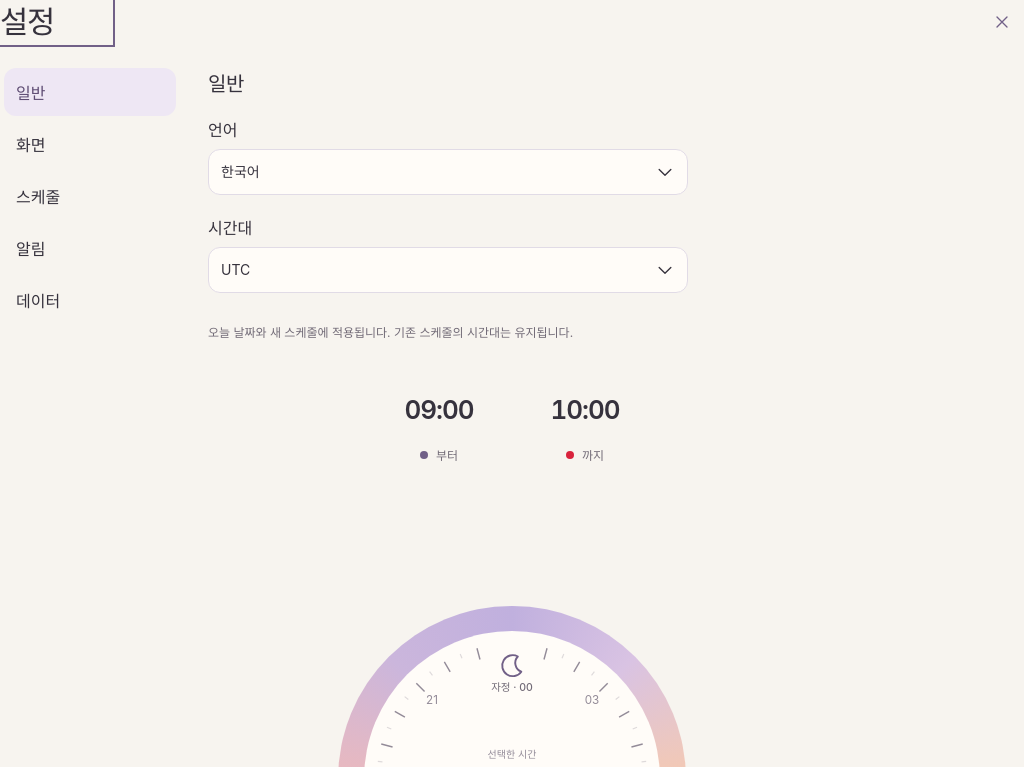
Test case: requires explicit reset text and preserves the confirmation after failure
Step 1. Click the tab "데이터" → (90, 300), box [4,276,176,324]
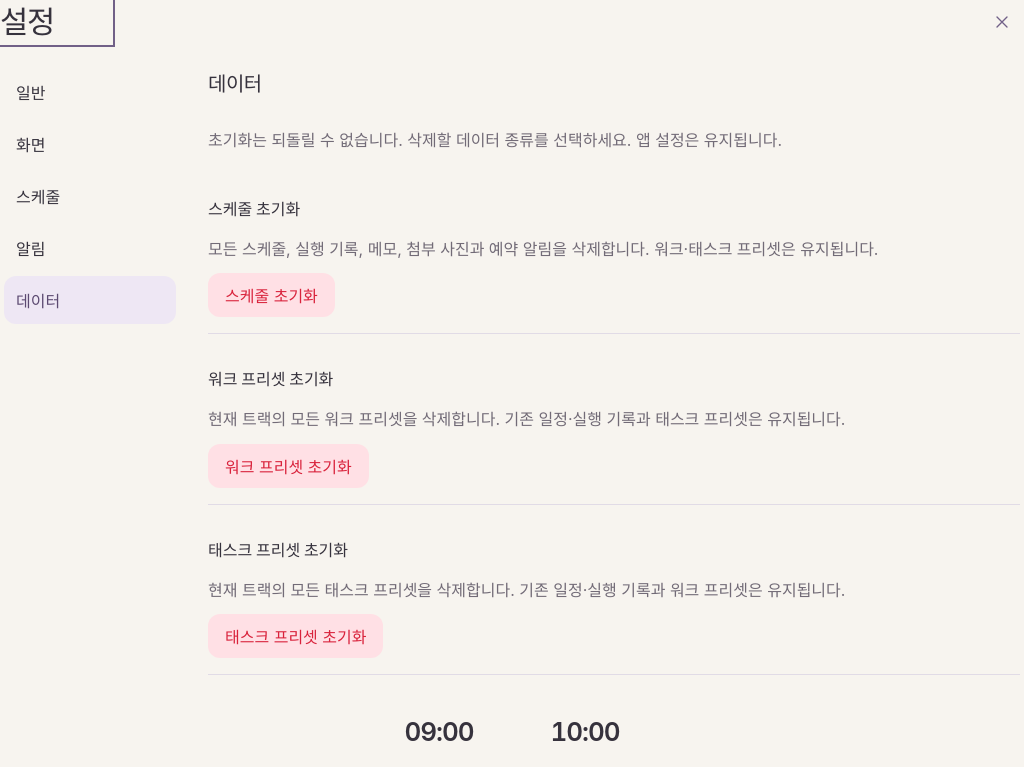
Step 2. Click the button "워크 프리셋 초기화" → (288, 466), box [208,444,369,488]
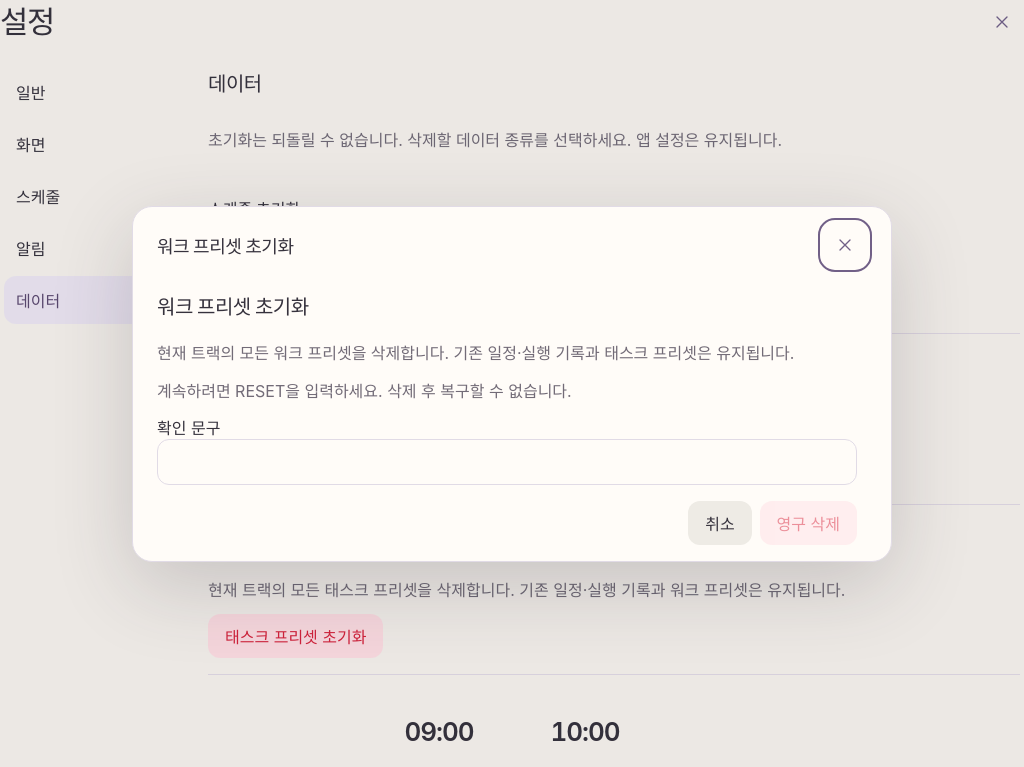
Check: the button "영구 삭제" is disabled, box [760,501,857,545]
Step 3. Type "RESET" into the field labelled "확인 문구" → (507, 462), box [157,439,857,485]
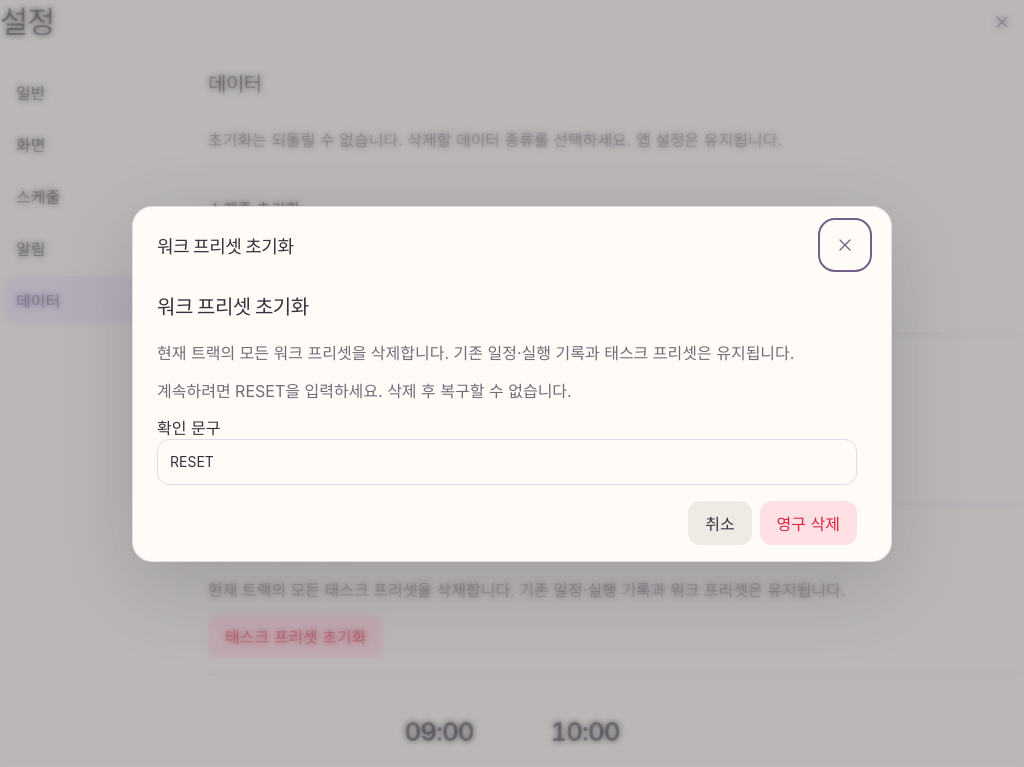
Step 4. Click the button "영구 삭제" → (808, 523), box [760,501,857,545]
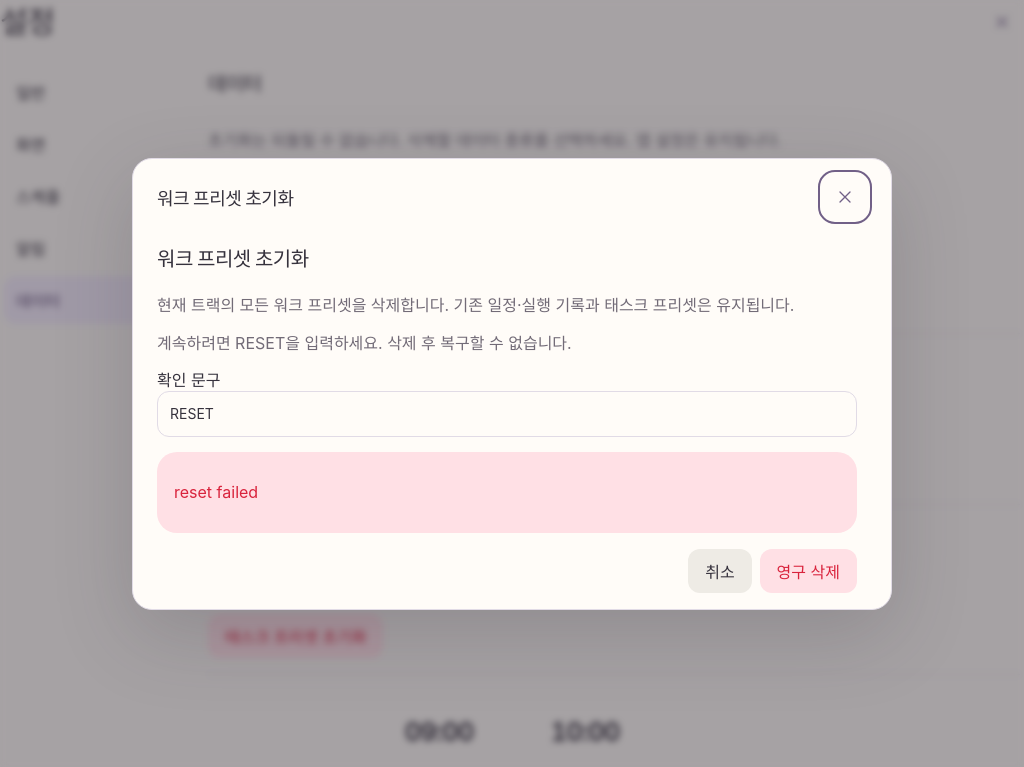
Check: the text "reset failed" is shown, box [174,482,258,502]
Step 5. Click the button "영구 삭제" → (808, 571), box [760,549,857,593]
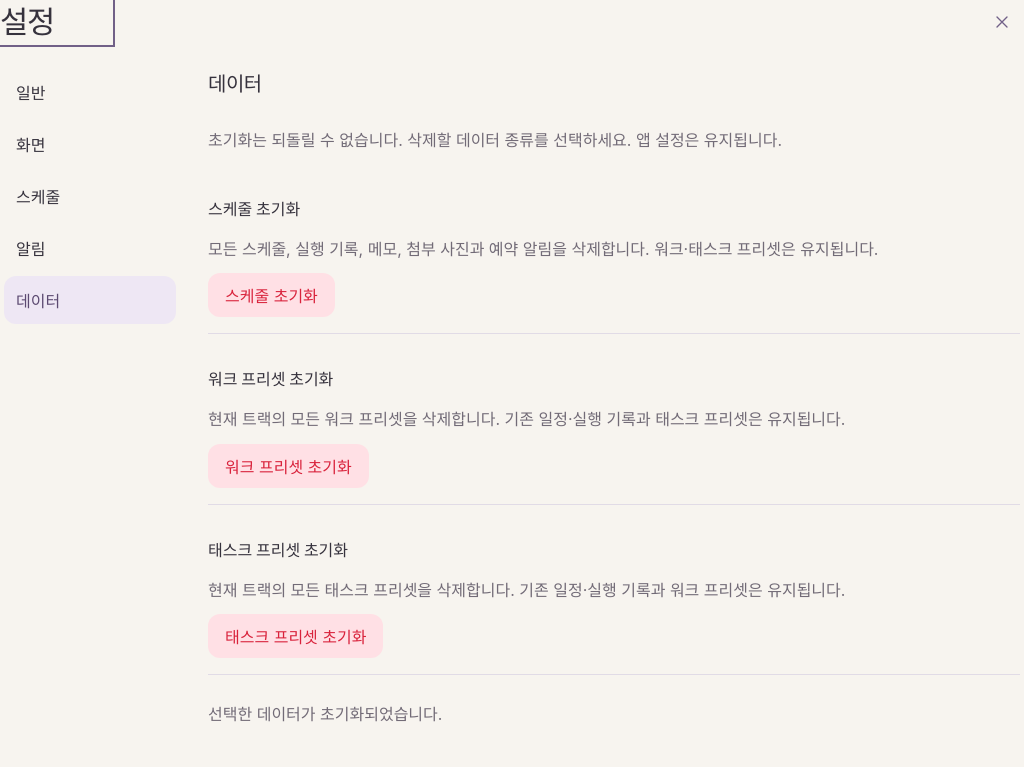
Check: the text "선택한 데이터가 초기화되었습니다." is shown, box [208,704,442,724]
